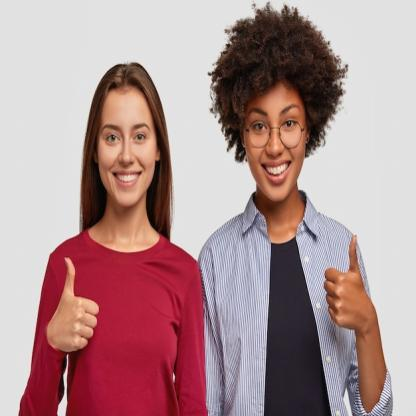thumb_up: (47, 256, 100, 352), (323, 236, 370, 332)
